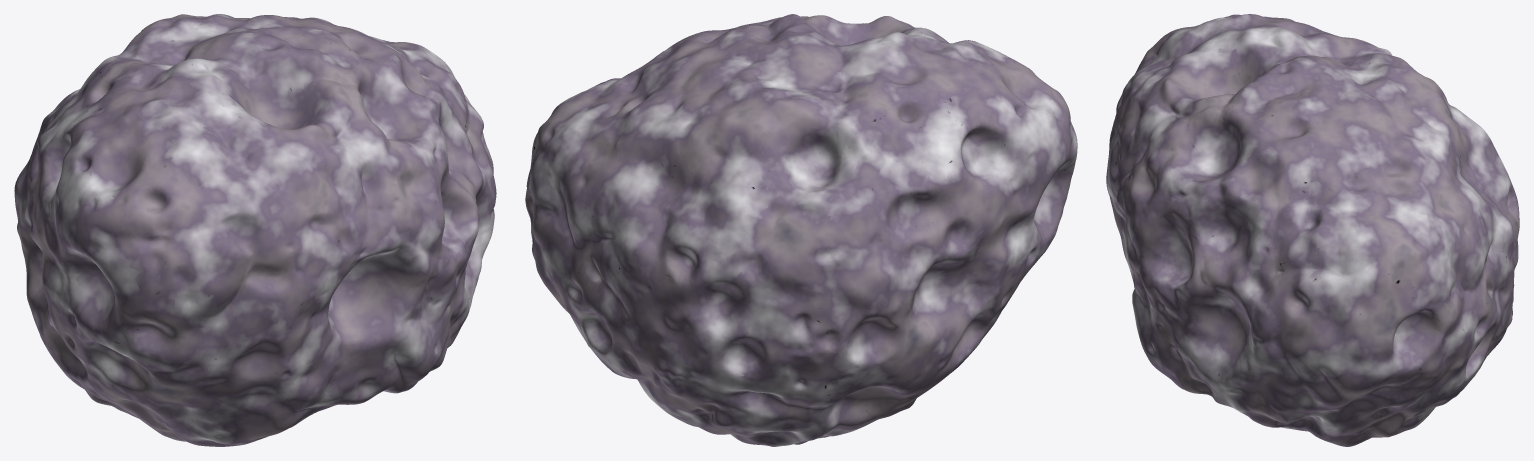
File: AsteroidiSmall4.fbx
3 views of the same model, side by side, from view 1: azimuth 30°, elevation 25°; view 2: azimuth 150°, elevation 25°; view 3: azimuth 270°, elevation 25° (orthographic). The views are drawn at different scales.
Visible parts, largest first — view 1: Asteroid; view 2: Asteroid; view 3: Asteroid.
Boxes of the visible parts, x1,y1,x2,y2 form: Asteroid: [14, 14, 496, 446]; Asteroid: [525, 14, 1077, 446]; Asteroid: [1106, 14, 1519, 446].
Size of the model in its own units: 2.36 by 1.87 by 1.98.
Materials: 1 (1 with a texture image).
